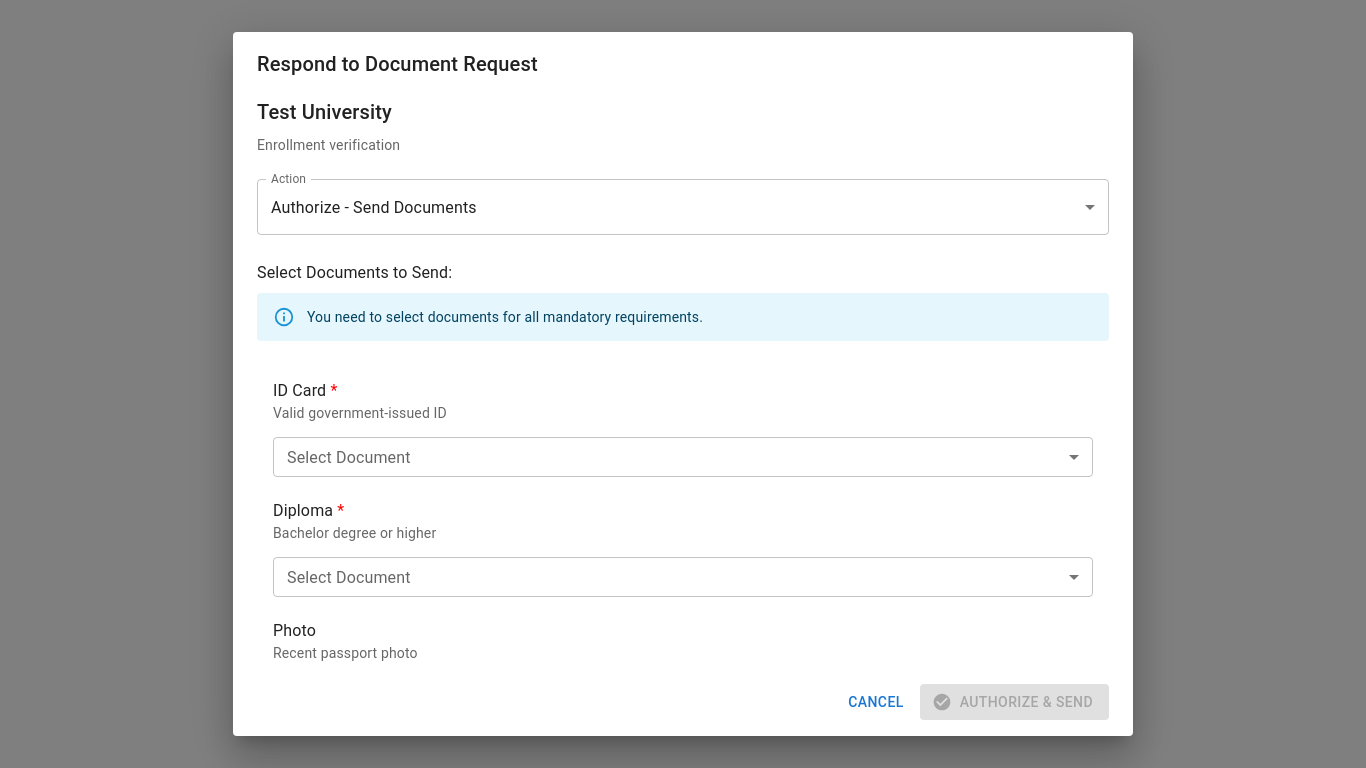
Test: RespondRequestDialog › Authorize action › should enable submit button when all mandatory documents are selected
expect the heading "Test University" is shown: met, box [257, 100, 392, 124]
# Select documents for mandatory requirements (first two)
What coordinates should you click on to do the following:
click the dropdown named "Select Document" below "ID Card"
I would click on:
 (683, 457)
Its box is [273, 437, 1093, 477].
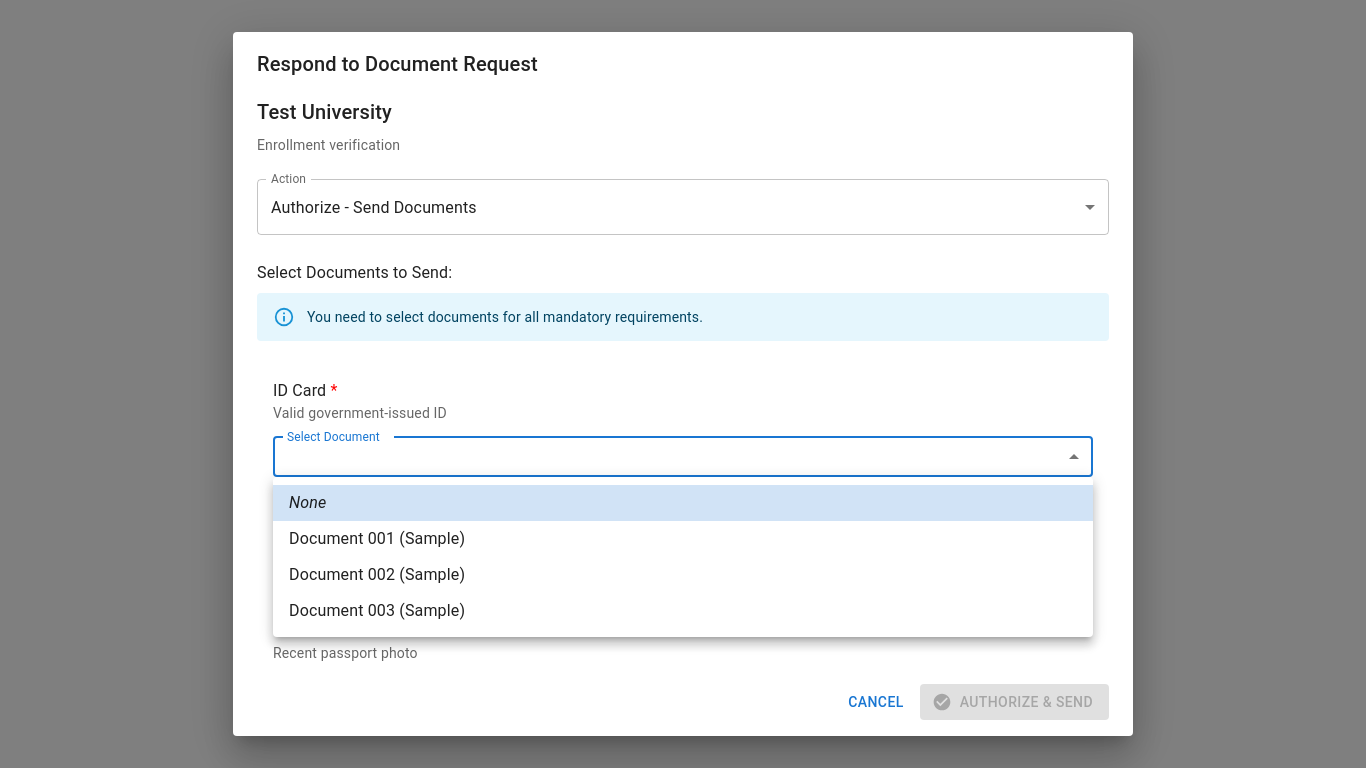
What coordinates should you click on to do the following:
click the option "Document 001 (Sample)"
I would click on:
 (377, 538)
Its box is [289, 529, 465, 548].
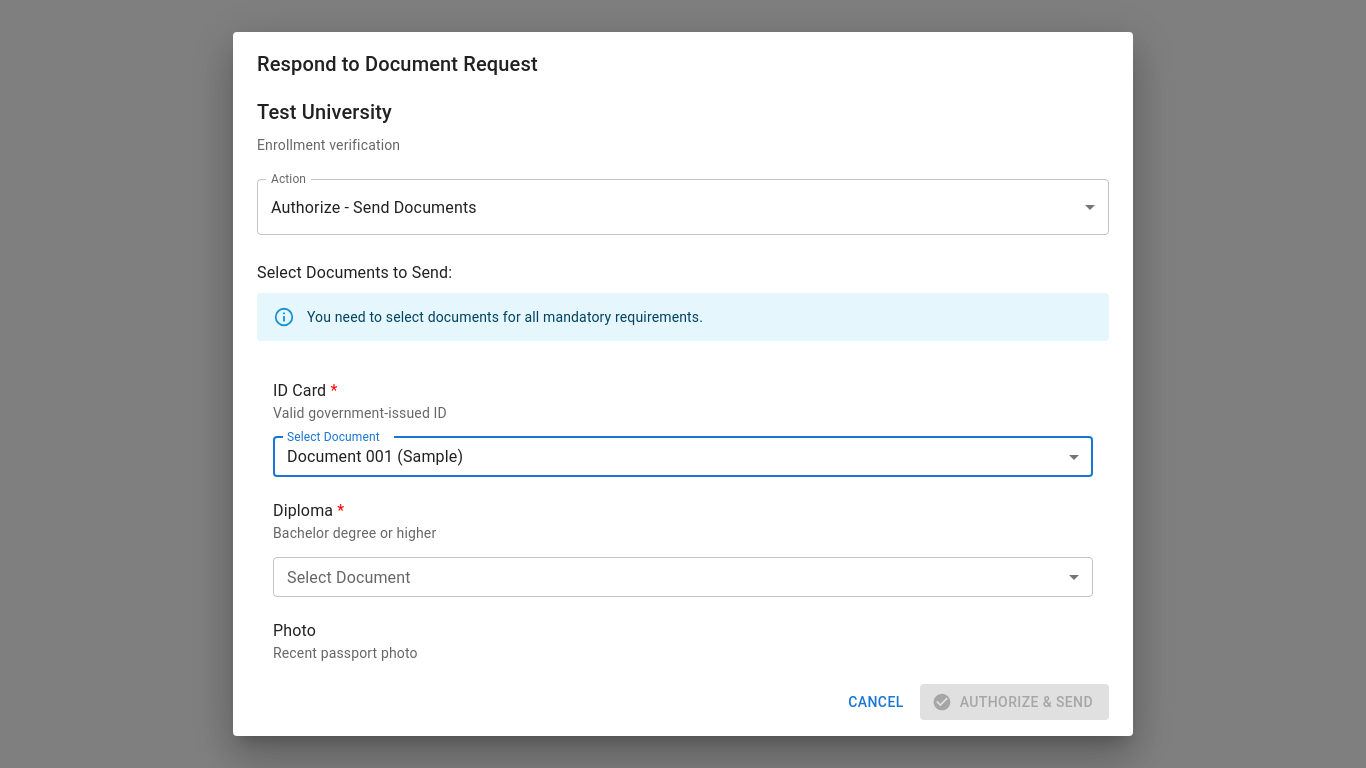
What coordinates should you click on to do the following:
click the dropdown named "Select Document"
I would click on:
 (683, 577)
Its box is [273, 557, 1093, 597].
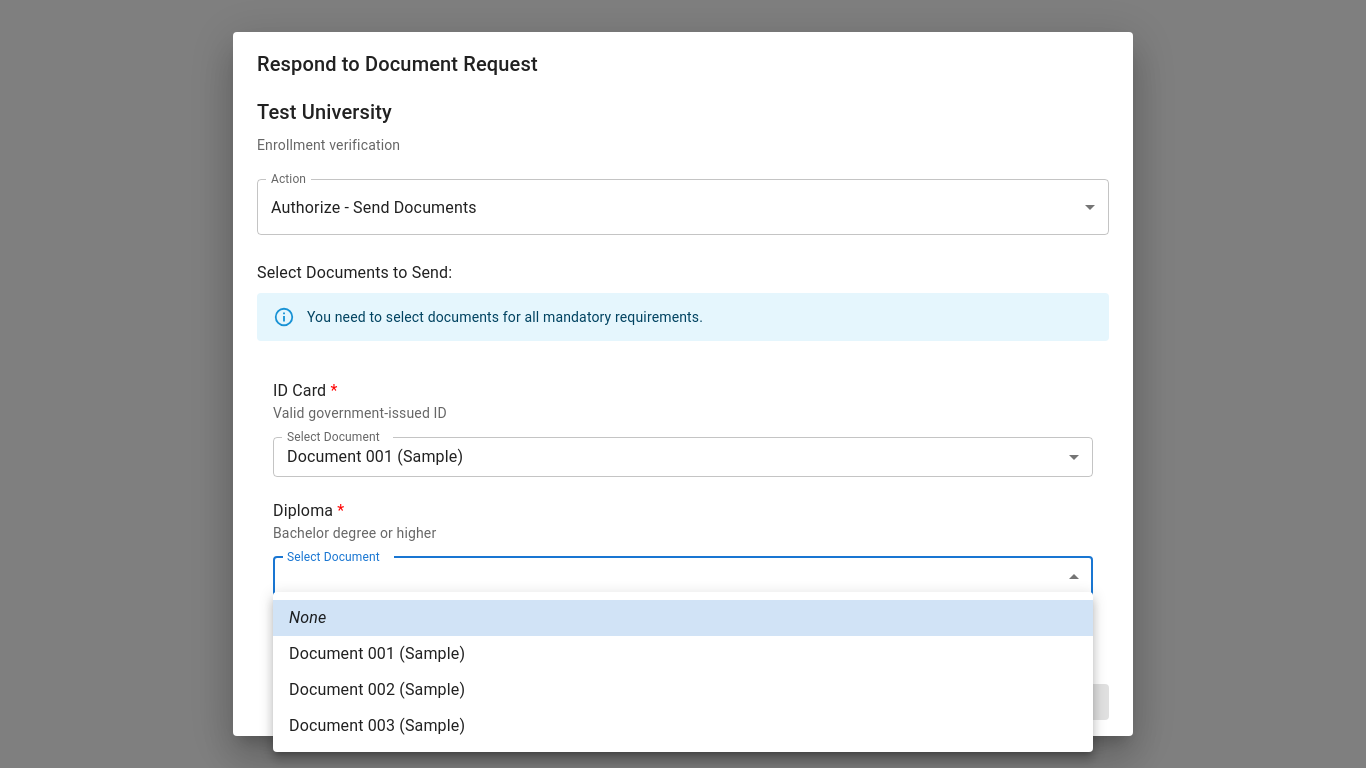
What coordinates should you click on to do the following:
click the option "Document 002 (Sample)"
I would click on:
 (377, 690)
Its box is [289, 680, 465, 699].
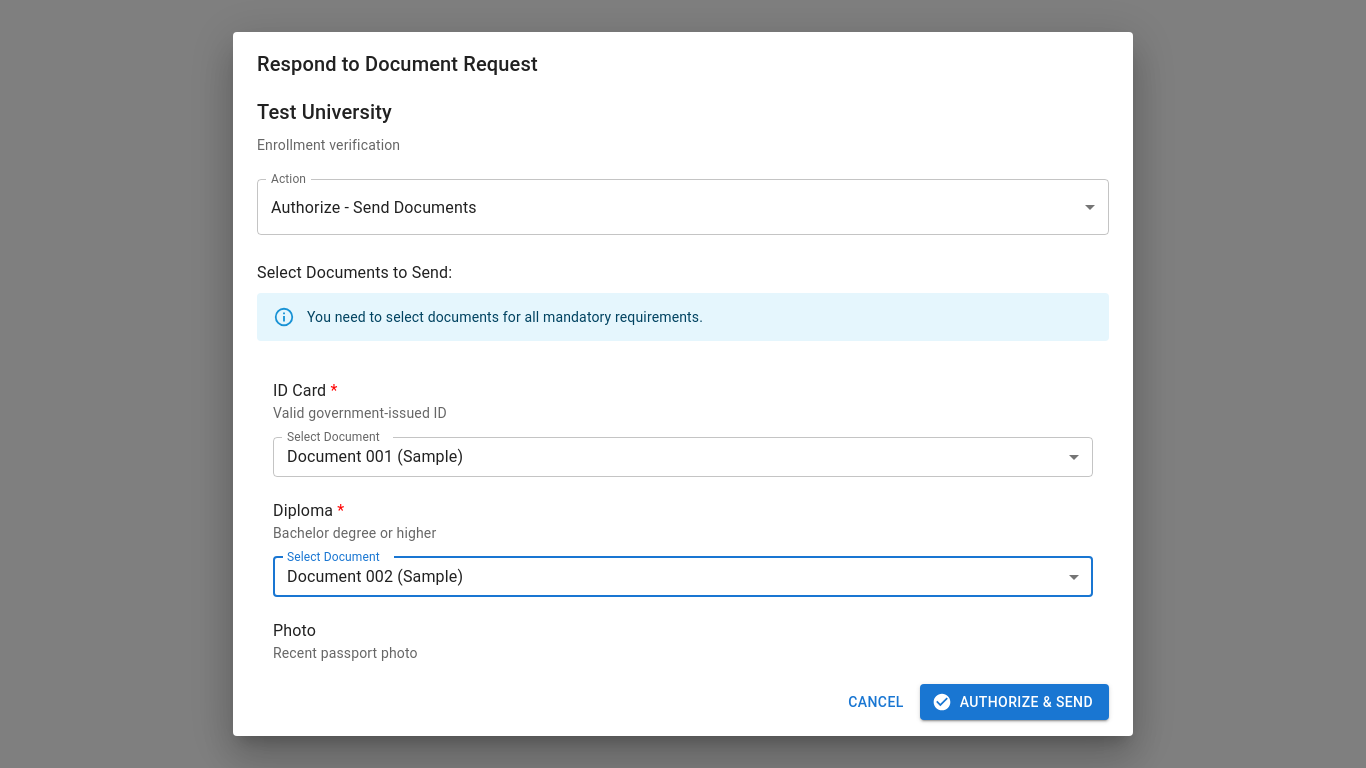
expect the button "Authorize & Send" is enabled: met, box [920, 684, 1109, 720]
